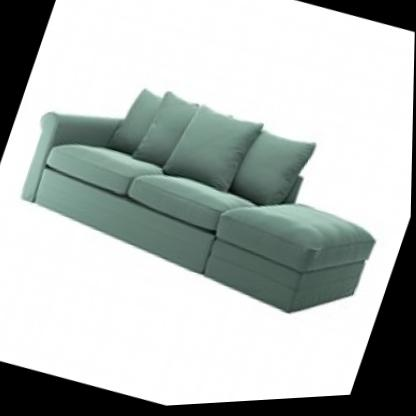Sofa: (0, 38, 412, 355)
